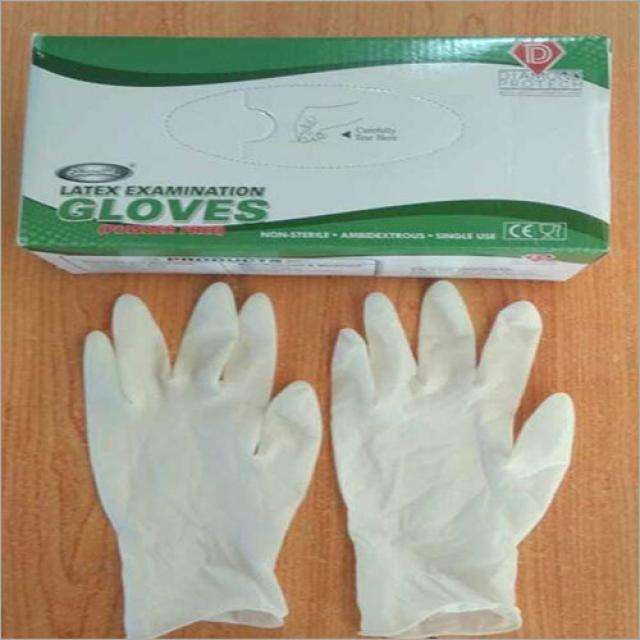Gloves: (325, 281, 581, 640), (66, 281, 324, 635)
